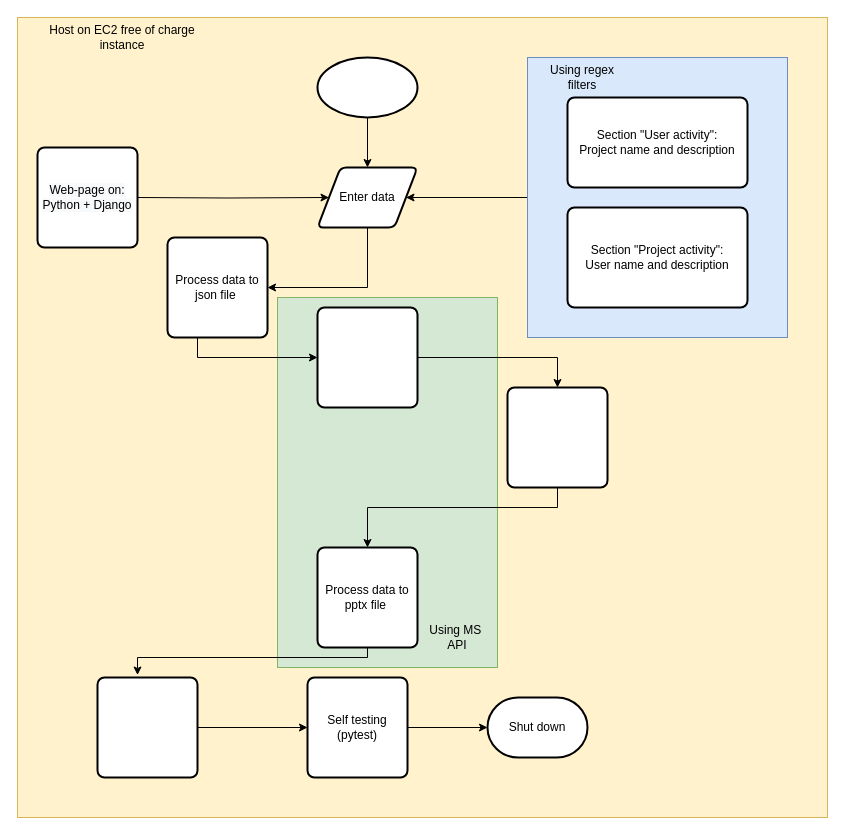
The diagram is 845 pixels wide and 835 high, and some of its shapes have lost their labels. The box of each missing label's shape, as (x1, y1, x2, y2) in pixels:
Initialization on scheduled time: (316, 56, 418, 118)
Process data to xlsx file: (316, 306, 418, 408)
Save file to AWS S3: (506, 386, 608, 488)
Save file to SharePoint: (96, 676, 198, 778)
